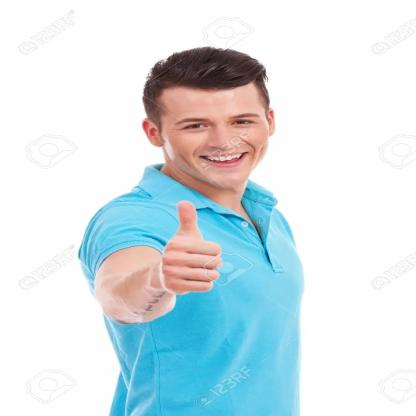Thumbs-Up: (134, 189, 238, 304)
